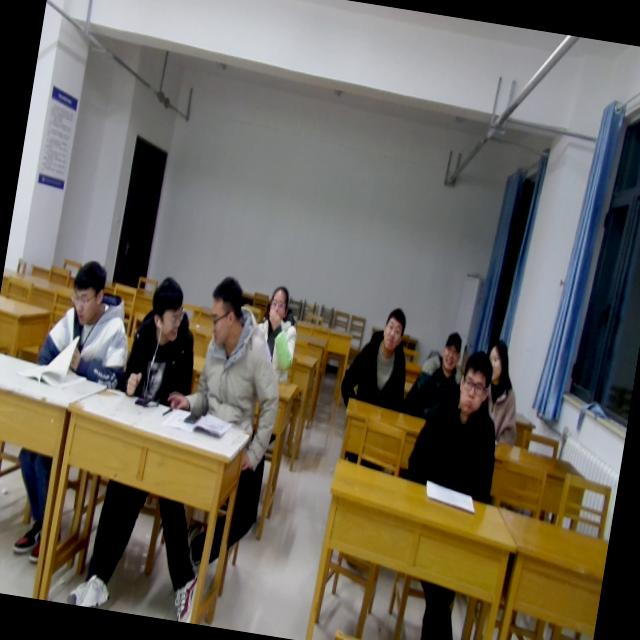down: (62, 251, 112, 331)
lookup: (452, 344, 497, 424), (374, 302, 410, 358), (480, 334, 514, 389), (434, 325, 467, 378), (262, 277, 294, 323)
sit: (167, 272, 298, 438), (402, 342, 512, 502), (31, 253, 140, 388), (116, 270, 210, 413), (336, 300, 418, 413), (403, 324, 471, 426), (472, 335, 530, 444), (250, 282, 306, 384)
